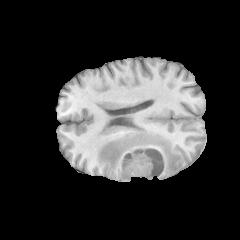glioma: (98, 129, 183, 180)
